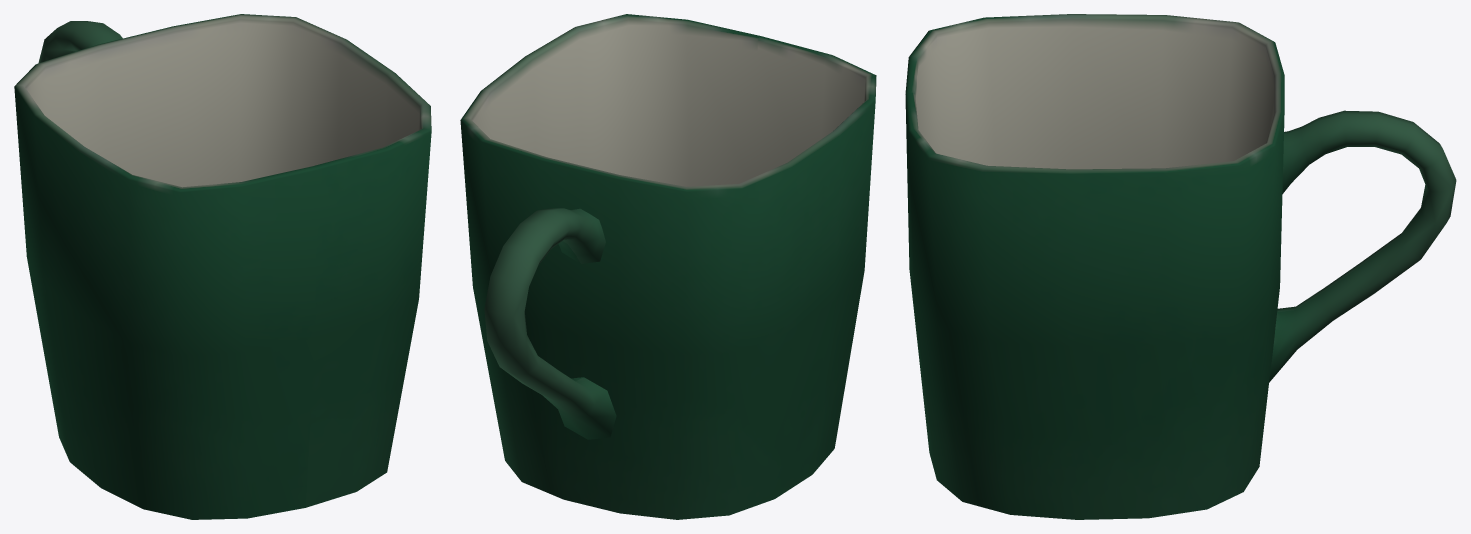
File: Prop_Cup_04.fbx
3 renders of one model, left to right at view 1: azimuth 30°, elevation 25°; view 2: azimuth 150°, elevation 25°; view 3: azimuth 270°, elevation 25°, orthographic. The views are drawn at different scales.
Parts seen in each view (by area): view 1: Prop_Cup_04; view 2: Prop_Cup_04; view 3: Prop_Cup_04.
Boxes of the visible parts, box(x1,y1,x2,y2) form: Prop_Cup_04: box(14, 14, 431, 519); Prop_Cup_04: box(460, 14, 876, 519); Prop_Cup_04: box(905, 14, 1456, 519).
Bounding box in the file's own units: 4.37 × 4.59 × 6.37.
